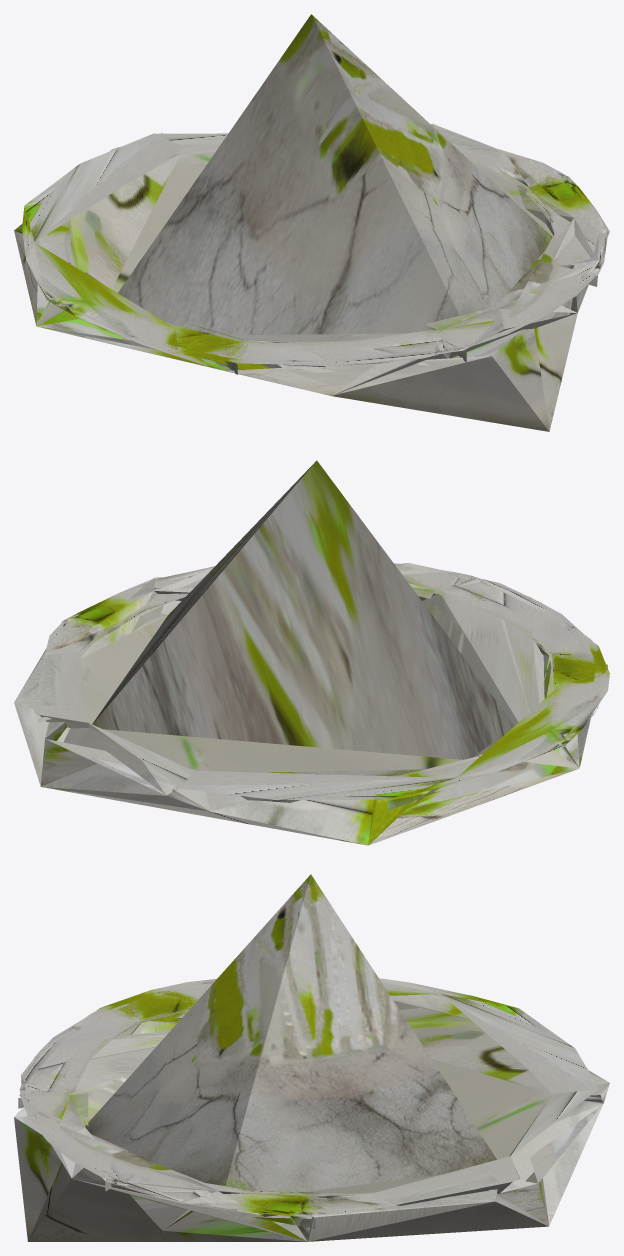
File: Plaza_Fountain_Dry_Broken.fbx
The picture shows the model from 3 angles, top to bottom: view 1: azimuth 30°, elevation 25°; view 2: azimuth 150°, elevation 25°; view 3: azimuth 270°, elevation 25°; orthographic projection. The views are drawn at different scales.
Parts seen in each view (by area): view 1: Mesh_0; view 2: Mesh_0; view 3: Mesh_0.
Part boxes in pixels (x1=…): Mesh_0: x1=14, y1=14, x2=609, y2=431; Mesh_0: x1=14, y1=460, x2=609, y2=845; Mesh_0: x1=14, y1=874, x2=609, y2=1241.
Size of the model in its own units: 200 by 120 by 200.
Materials: 1 (1 with a texture image).
